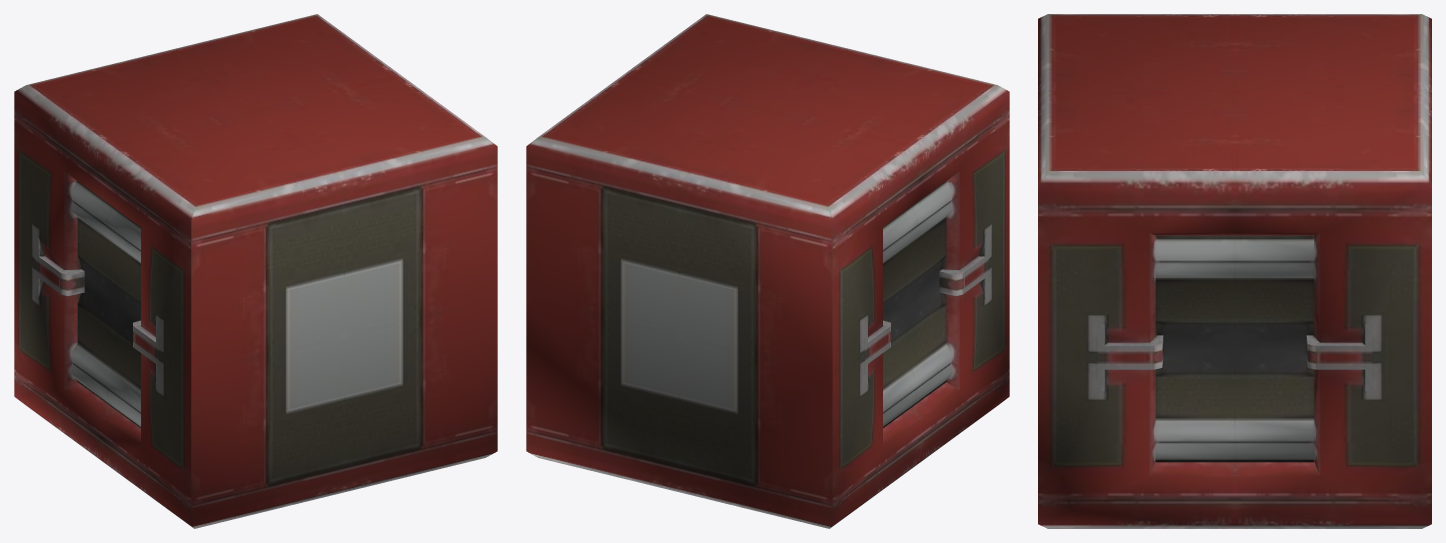
The model's file is Part - box7-kjuG_jNG.glb.
3 views of the same model, side by side, from view 1: azimuth 30°, elevation 25°; view 2: azimuth 150°, elevation 25°; view 3: azimuth 270°, elevation 25° (orthographic). The views are drawn at different scales.
Parts seen in each view (by area): view 1: box7; view 2: box7; view 3: box7.
Part boxes in pixels (bbox=[...]): box7: bbox=[14, 14, 497, 528]; box7: bbox=[526, 14, 1009, 528]; box7: bbox=[1038, 14, 1431, 528].
Size of the model in its own units: 1.04 by 1 by 1.
1 material, 1 textured.
